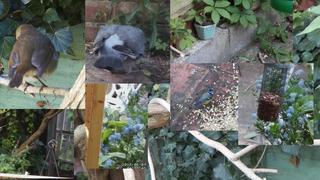blue tit: (194, 87, 214, 106)
robin: (7, 24, 61, 95)
wood pigeon: (92, 24, 146, 75)
